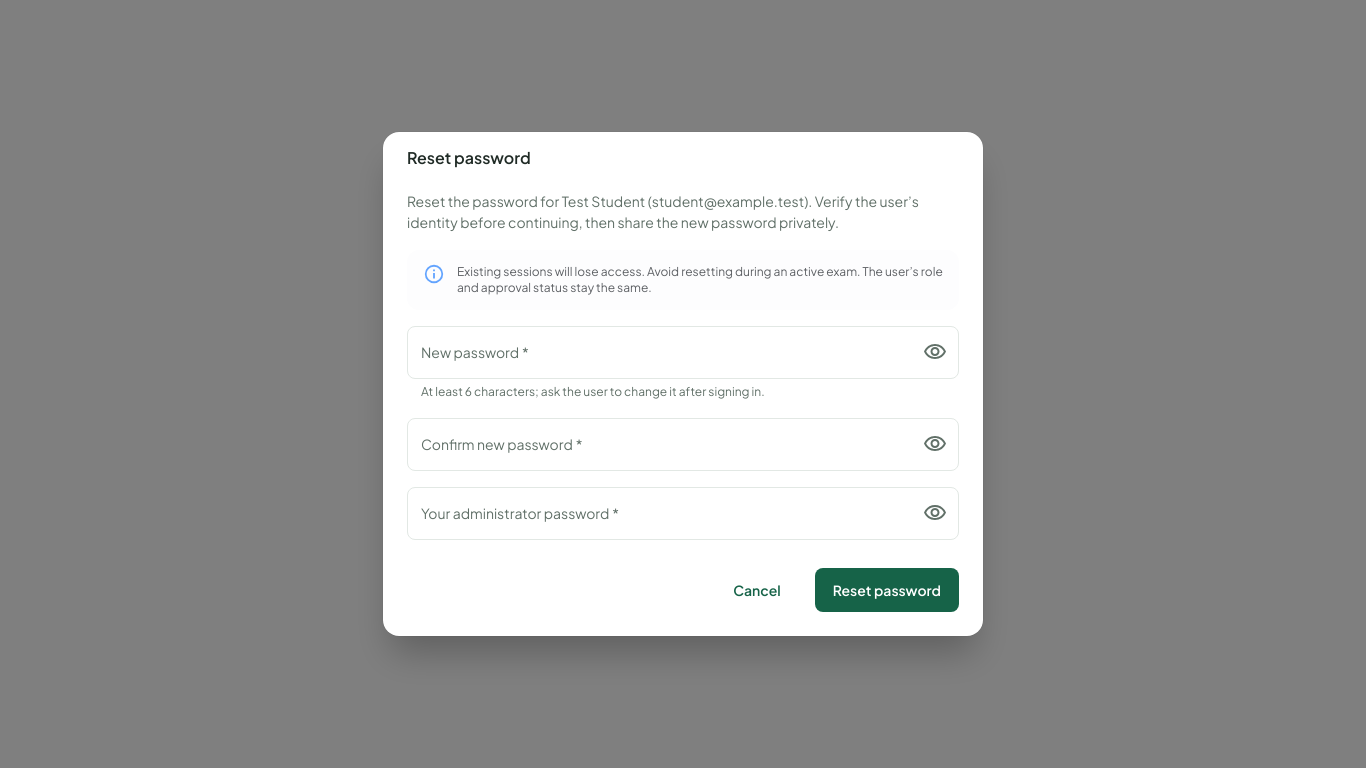
Test: mismatched passwords do not send a reset request
This screenshot has width=1366, height=768.
In the password field labelled "New password *": (656, 352) [407,326,905,379], type "new-password"
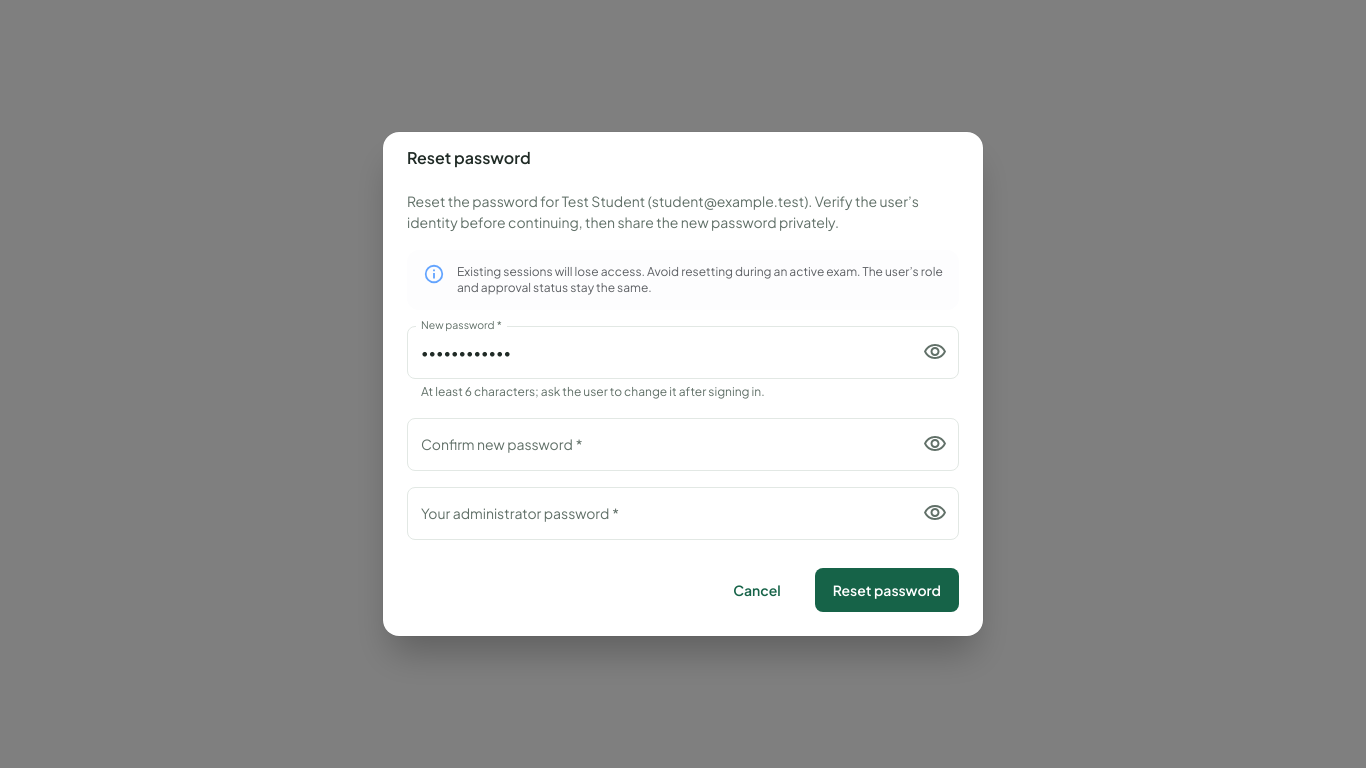
In the password field labelled "Confirm new password *": (656, 444) [407,418,905,471], type "different-password"
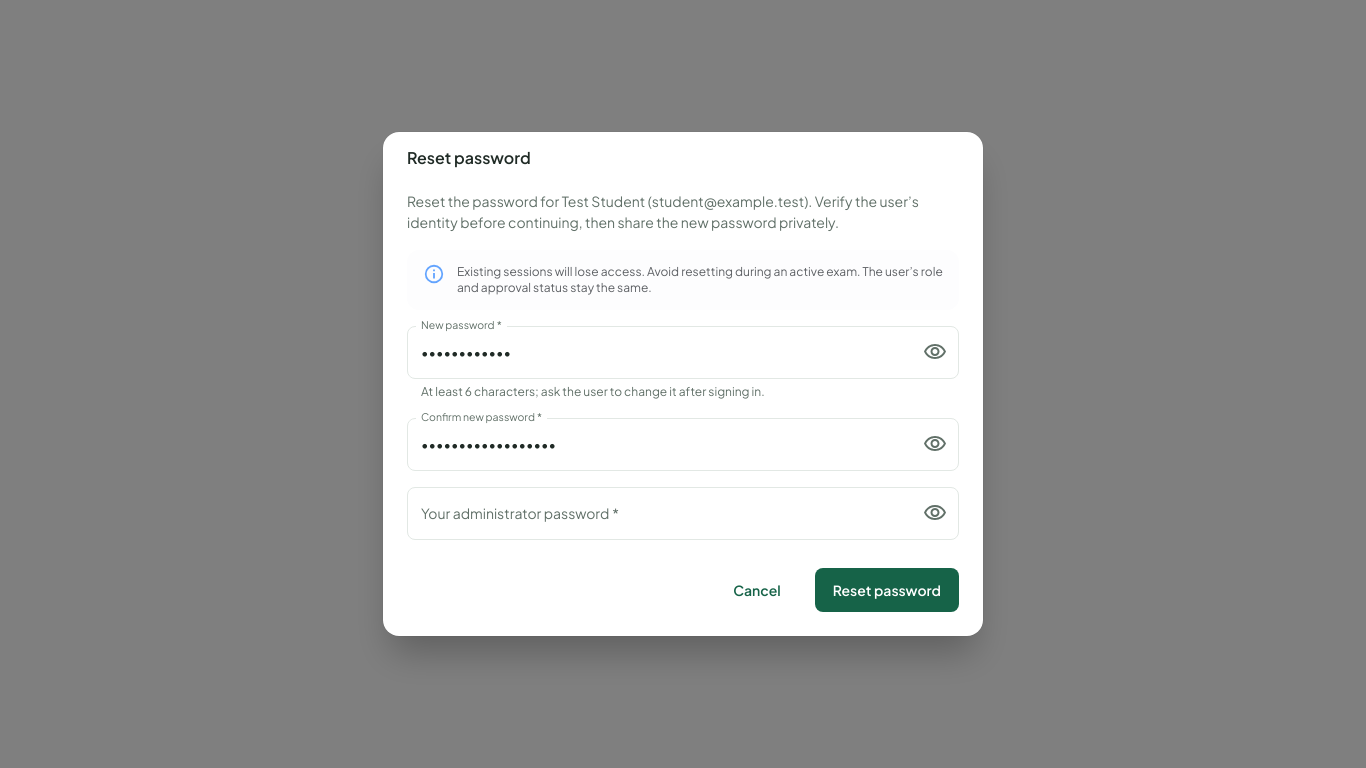
In the password field labelled "Your administrator password *": (656, 513) [407,487,905,540], type "admin-password"
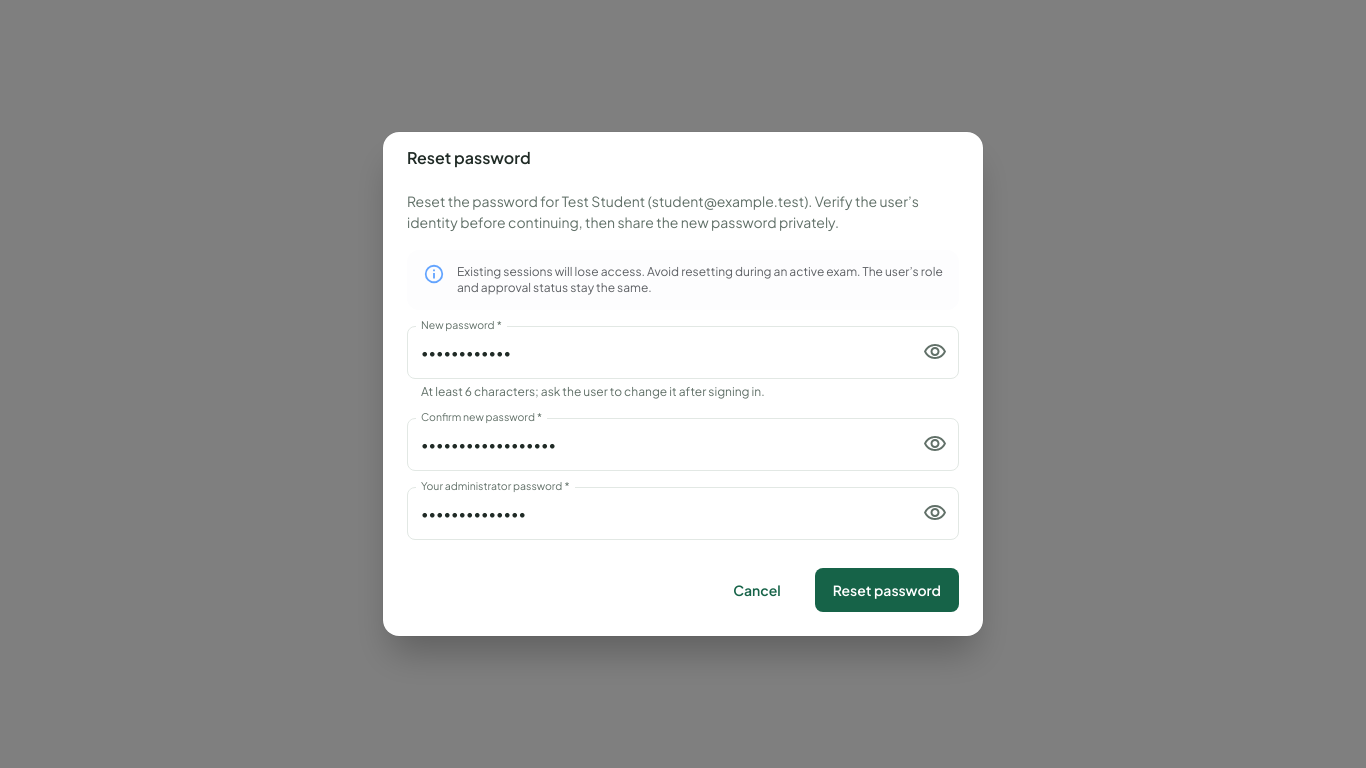
Click the button "Reset password": (887, 590) [815,568,959,612]
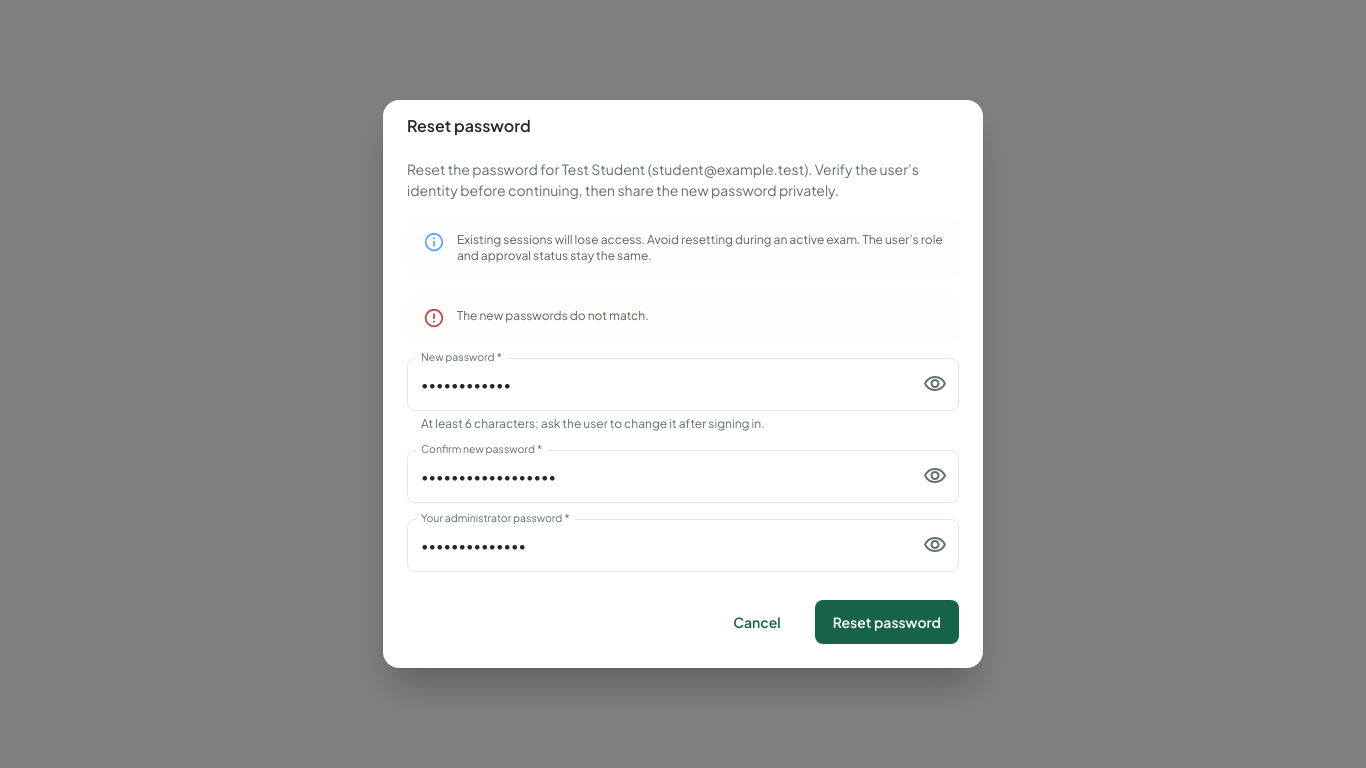
Expected: the text "The new passwords do not match." is shown, [457,308,649,322]
